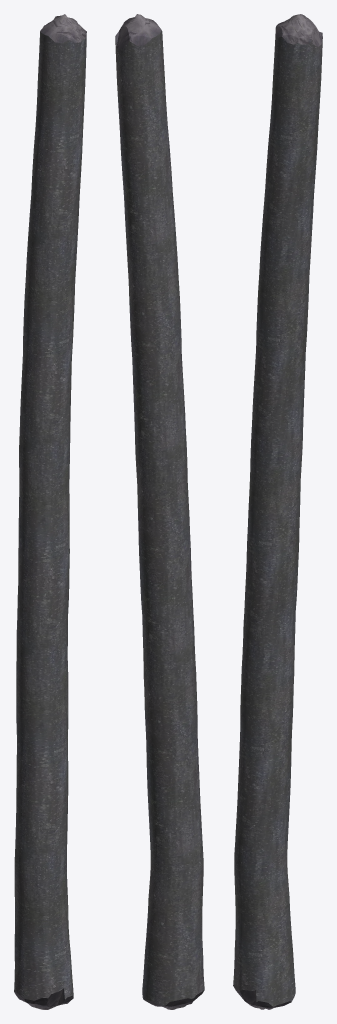
The picture shows the model from 3 angles, left to right: view 1: azimuth 30°, elevation 25°; view 2: azimuth 150°, elevation 25°; view 3: azimuth 330°, elevation 25°; orthographic projection.
Parts seen in each view (by area): view 1: SM_FH_Ash_Tree_02_full_LOD0; view 2: SM_FH_Ash_Tree_02_full_LOD0; view 3: SM_FH_Ash_Tree_02_full_LOD0.
Boxes of the visible parts, x1=… form: SM_FH_Ash_Tree_02_full_LOD0: x1=14, y1=14, x2=86, y2=1009; SM_FH_Ash_Tree_02_full_LOD0: x1=115, y1=14, x2=204, y2=1009; SM_FH_Ash_Tree_02_full_LOD0: x1=233, y1=14, x2=322, y2=1009.
Size of the model in its own units: 0.6395 by 8.21 by 0.5112.
1 material, 1 textured.
